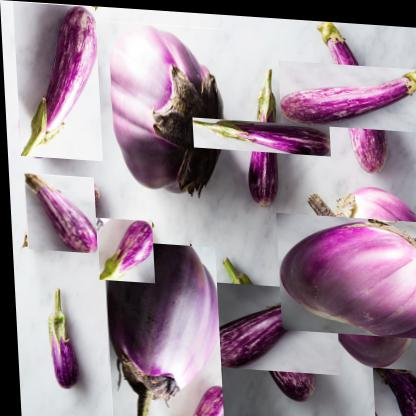eggplant: (100, 237, 221, 415), (108, 20, 229, 194), (288, 193, 415, 352), (12, 1, 102, 161), (207, 266, 325, 386), (297, 37, 408, 148), (217, 89, 306, 178), (21, 174, 98, 252), (93, 216, 153, 283), (43, 288, 77, 389), (369, 360, 415, 415)
